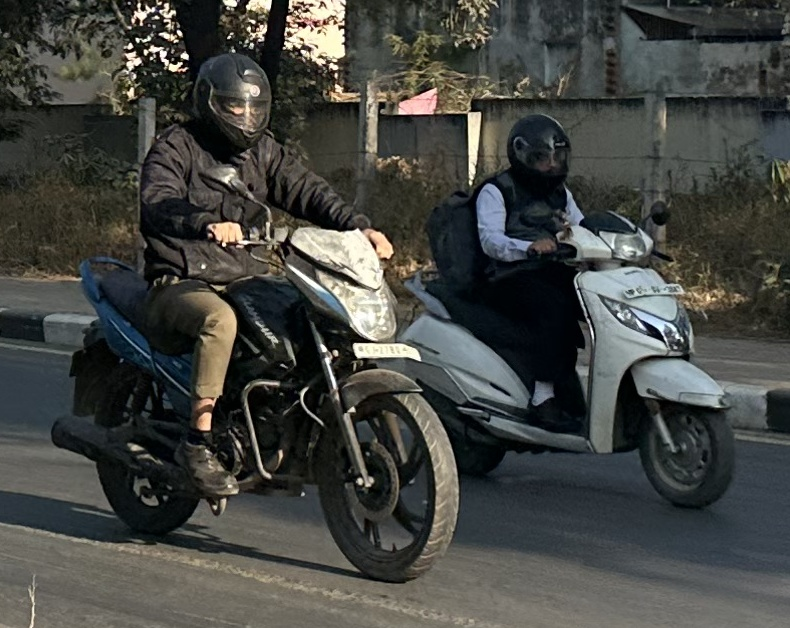BikeWithRider: (44, 32, 464, 586), (402, 88, 751, 544)
Helmet: (185, 46, 273, 155), (505, 115, 584, 192)
